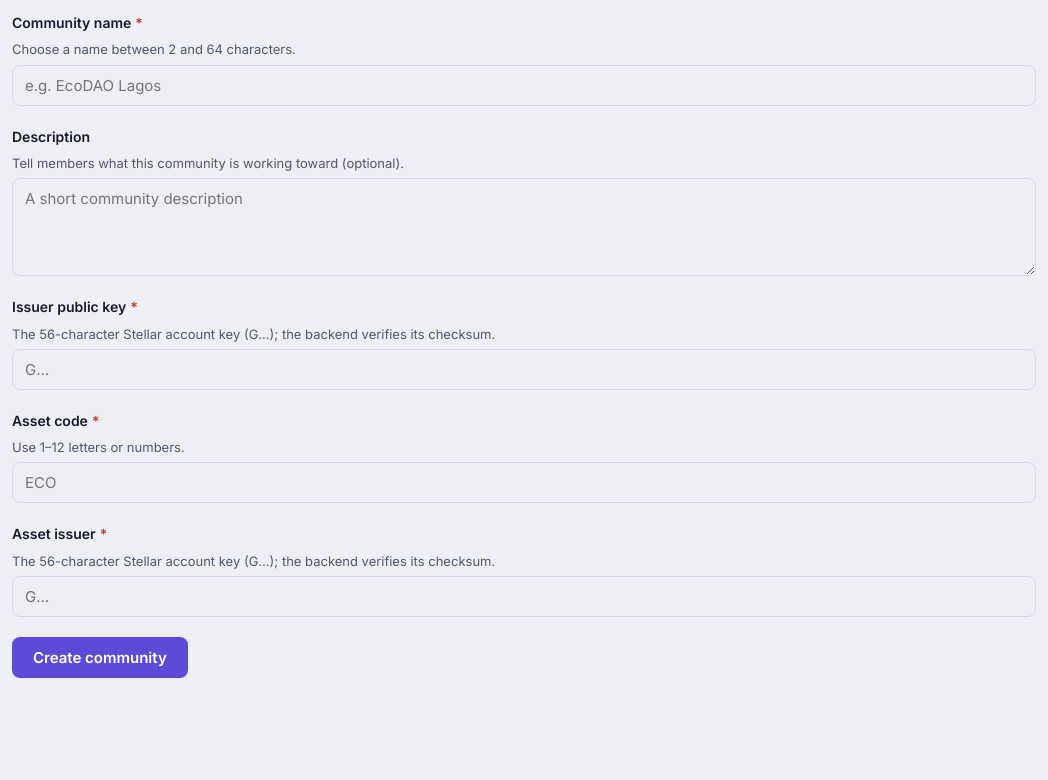
Test case: CreateCommunityForm › shows required-field errors and does not submit an empty form
Click the button "Create community" at (100, 657), box left=12, top=637, right=188, bottom=678
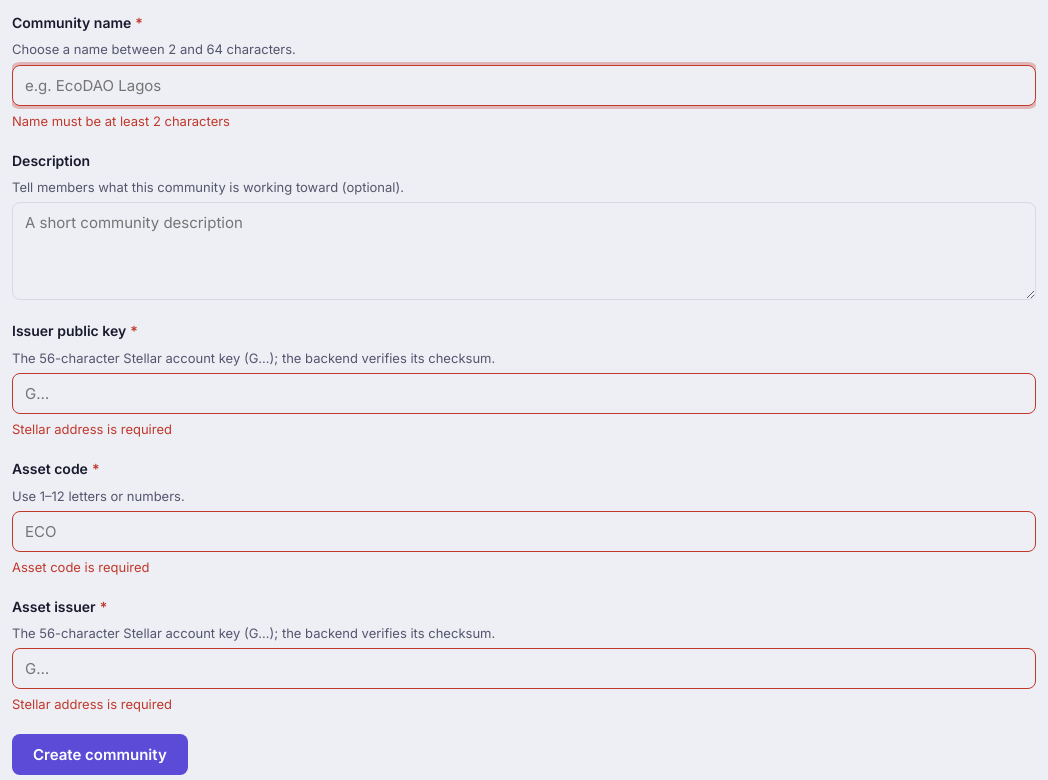
Now the text "Name must be at least 2 characters" is shown, box left=12, top=113, right=230, bottom=129
